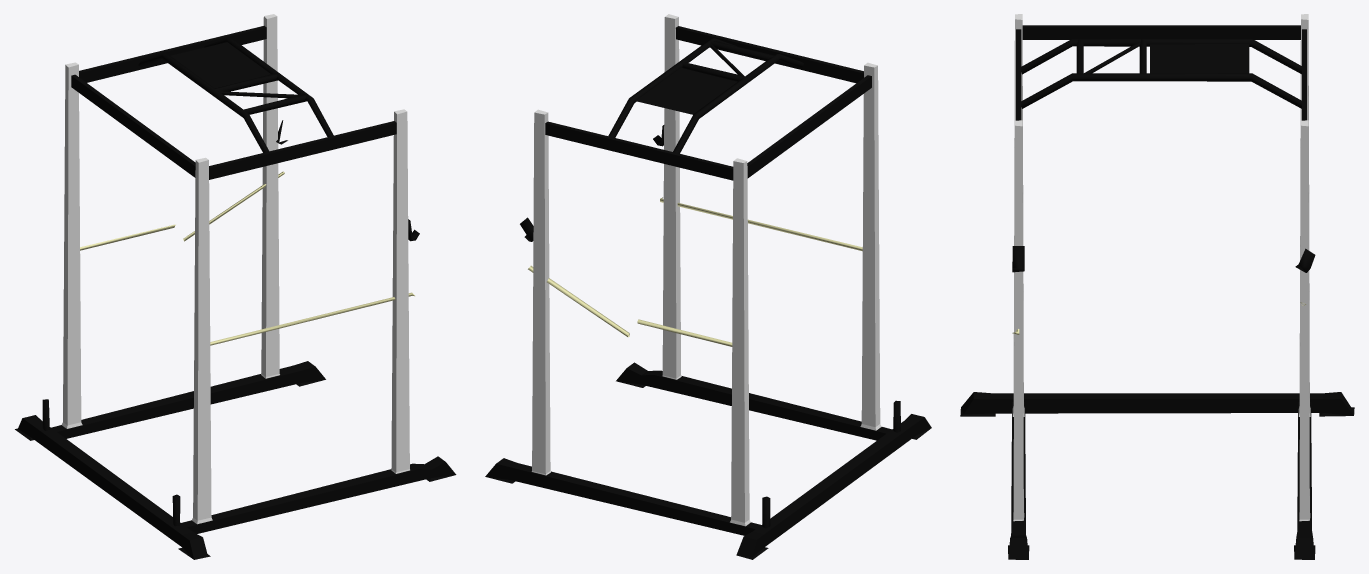
Rendered from SquatRack_Broken.fbx.
3 renders of one model, left to right at view 1: azimuth 30°, elevation 25°; view 2: azimuth 150°, elevation 25°; view 3: azimuth 270°, elevation 25°, orthographic. The views are drawn at different scales.
Parts seen in each view (by area): view 1: SRack; view 2: SRack; view 3: SRack.
Boxes of the visible parts, box(x1,y1,x2,y2) form: SRack: box(15, 14, 456, 559); SRack: box(485, 14, 931, 559); SRack: box(960, 14, 1354, 559).
Size of the model in its own units: 211 by 273 by 230.
